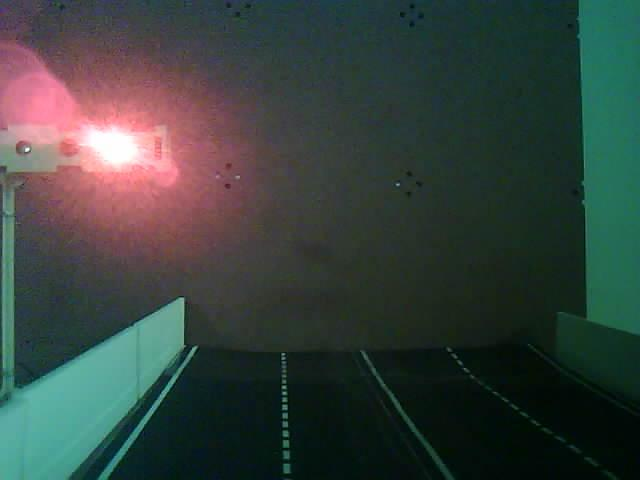red: (0, 10, 268, 264)
